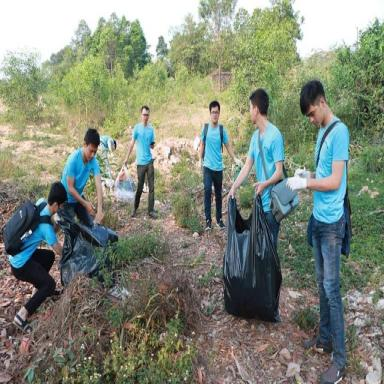plasticbag: (218, 190, 286, 332), (54, 207, 120, 293), (112, 159, 134, 204)
